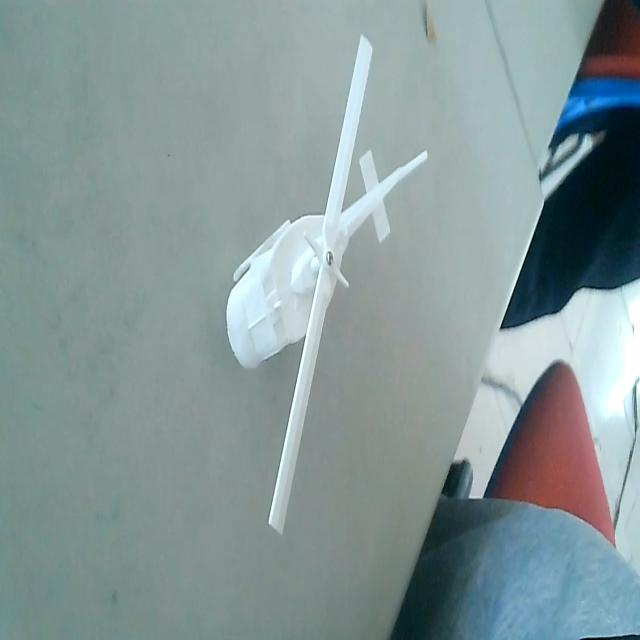Helicopter: (225, 35, 428, 548)
